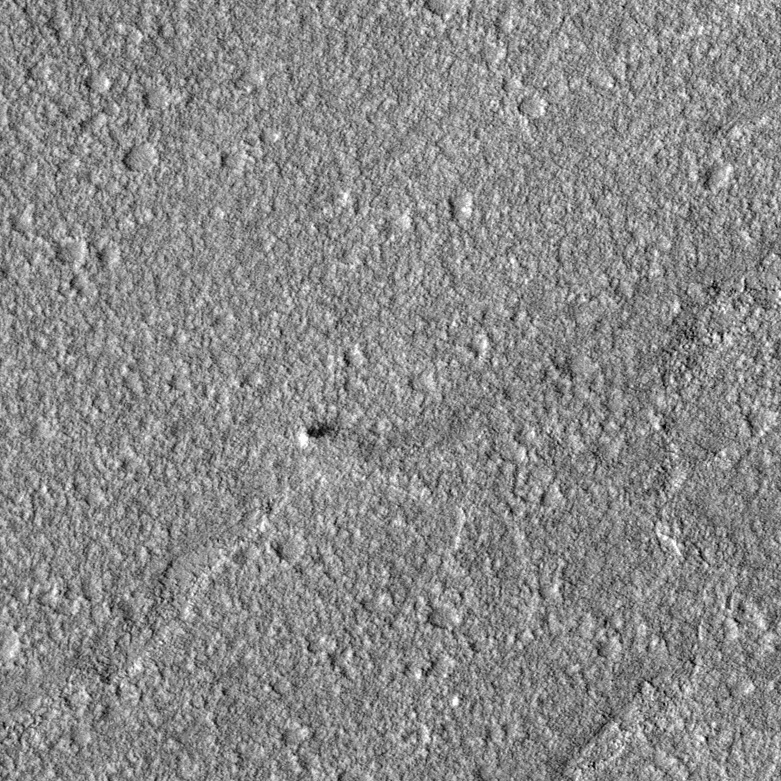dust_devil: (295, 420, 339, 450)
